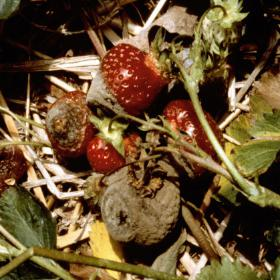Gray Mold: (100, 147, 181, 246), (87, 43, 177, 119), (47, 90, 98, 158)
